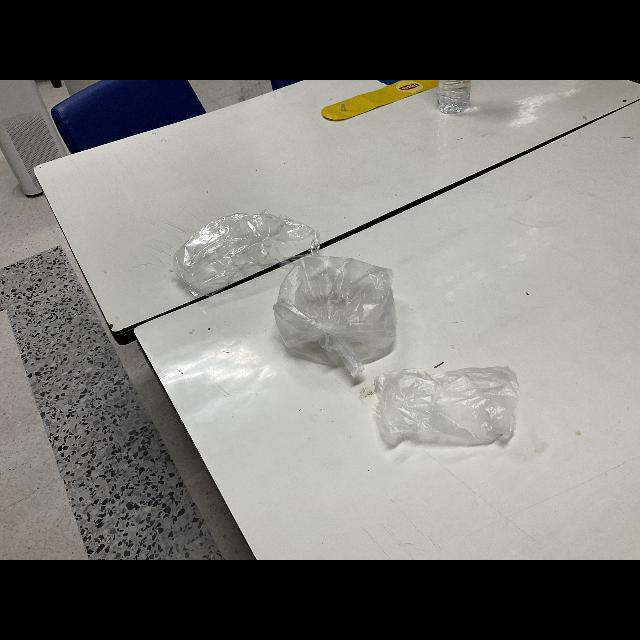plastic_bag: (272, 253, 400, 391), (166, 210, 322, 300)
scrap_plastic: (367, 365, 529, 453)
